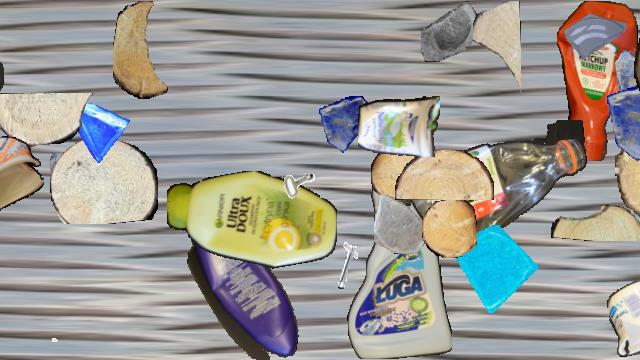glass: (455, 225, 543, 313), (60, 94, 130, 164), (565, 1, 627, 63), (421, 1, 481, 61), (374, 195, 432, 253), (319, 96, 375, 152), (605, 79, 640, 163), (615, 46, 640, 102)
metal: (263, 143, 323, 203), (323, 242, 379, 298), (27, 311, 65, 349)
plastic: (409, 120, 587, 238), (347, 169, 451, 359), (184, 217, 304, 359), (167, 171, 337, 271), (557, 1, 637, 161), (358, 92, 440, 156), (0, 136, 44, 226), (607, 281, 640, 357), (0, 1, 3, 145)
wood: (50, 136, 158, 224), (113, 1, 173, 99), (0, 93, 93, 147), (395, 150, 493, 200), (473, 1, 521, 97), (551, 205, 640, 241), (422, 200, 476, 258), (615, 109, 640, 229), (371, 146, 421, 206), (634, 1, 640, 129)
